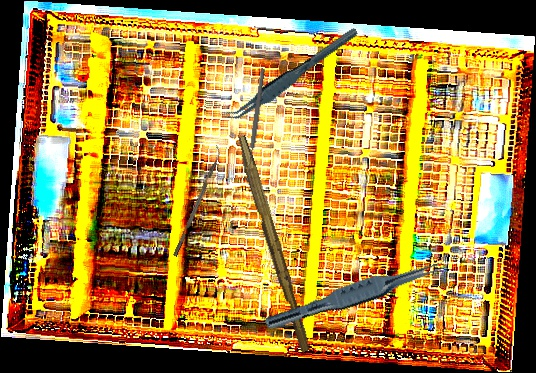Chopper: (168, 145, 225, 257)
Scalpel Handle: (230, 135, 316, 353)
Surgical Spoon: (244, 68, 266, 182)
Tissue Forceps: (263, 250, 447, 341), (214, 26, 368, 126)
